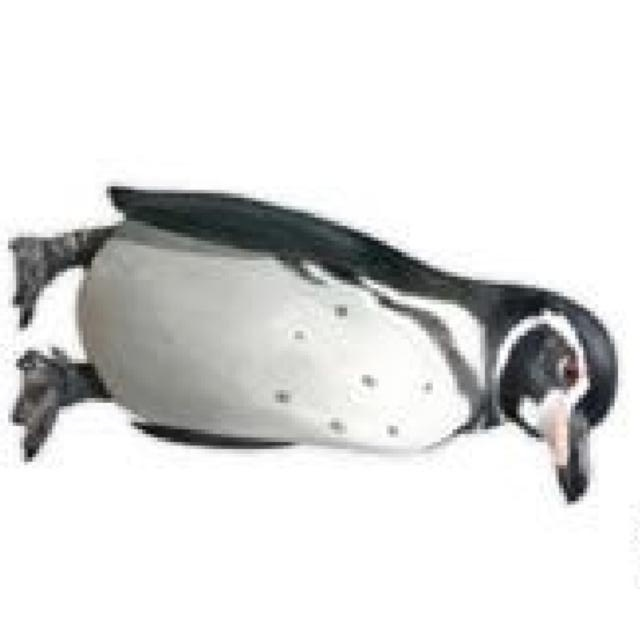penguin: (7, 184, 617, 503)
